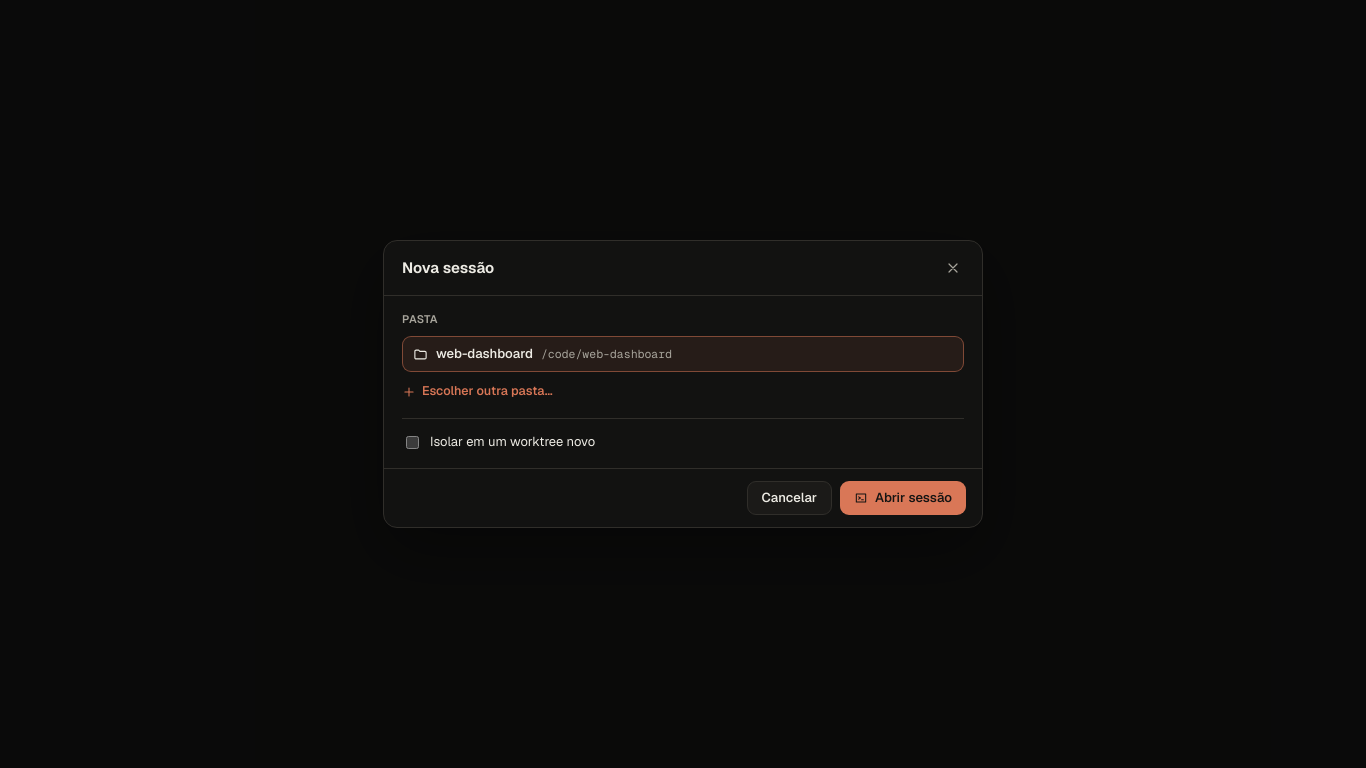
NewSessionDialog › keeps the dialog open with the reason when the session fails to start
What coordinates should you click on to do the following:
click the button "Abrir sessão"
I would click on:
 (903, 498)
Its box is [840, 481, 966, 515].
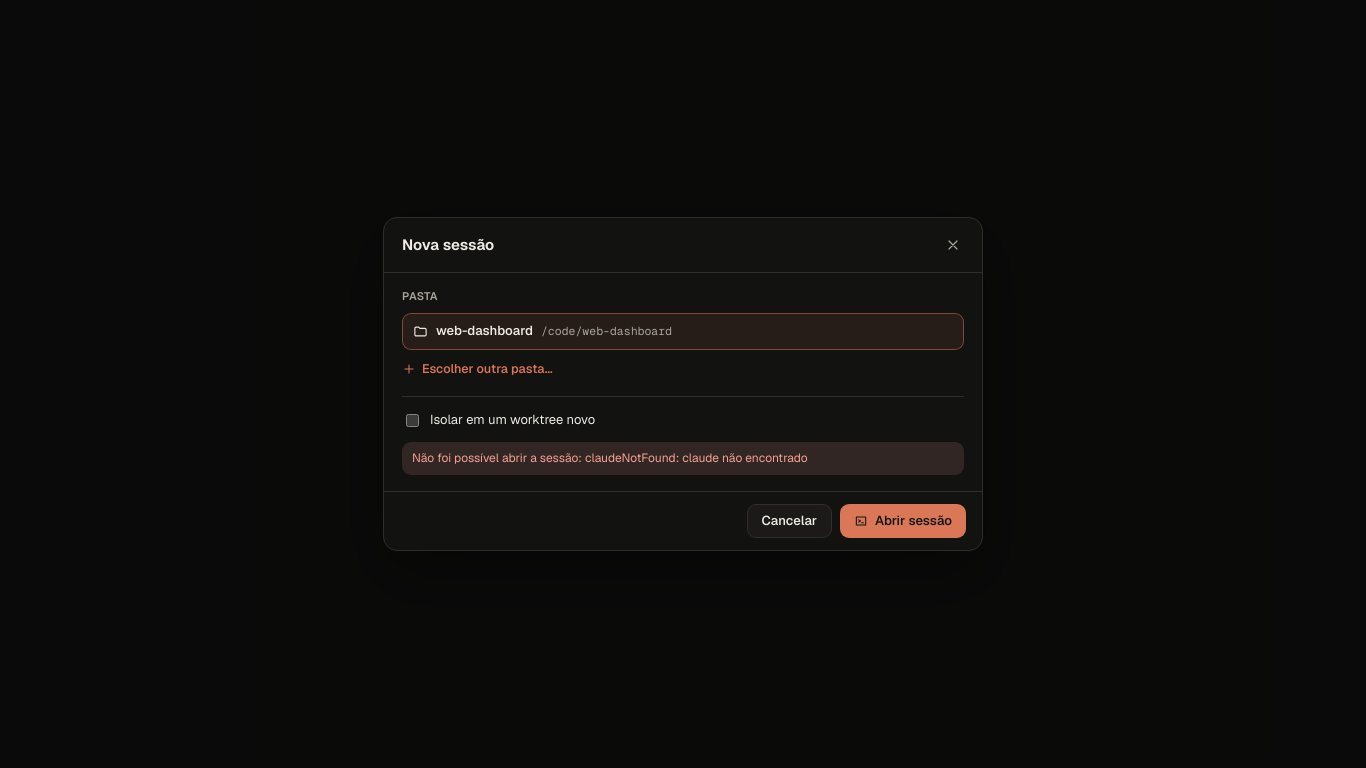
Now the message shows "Não foi possível abrir a sessão", box [412, 450, 808, 466]
